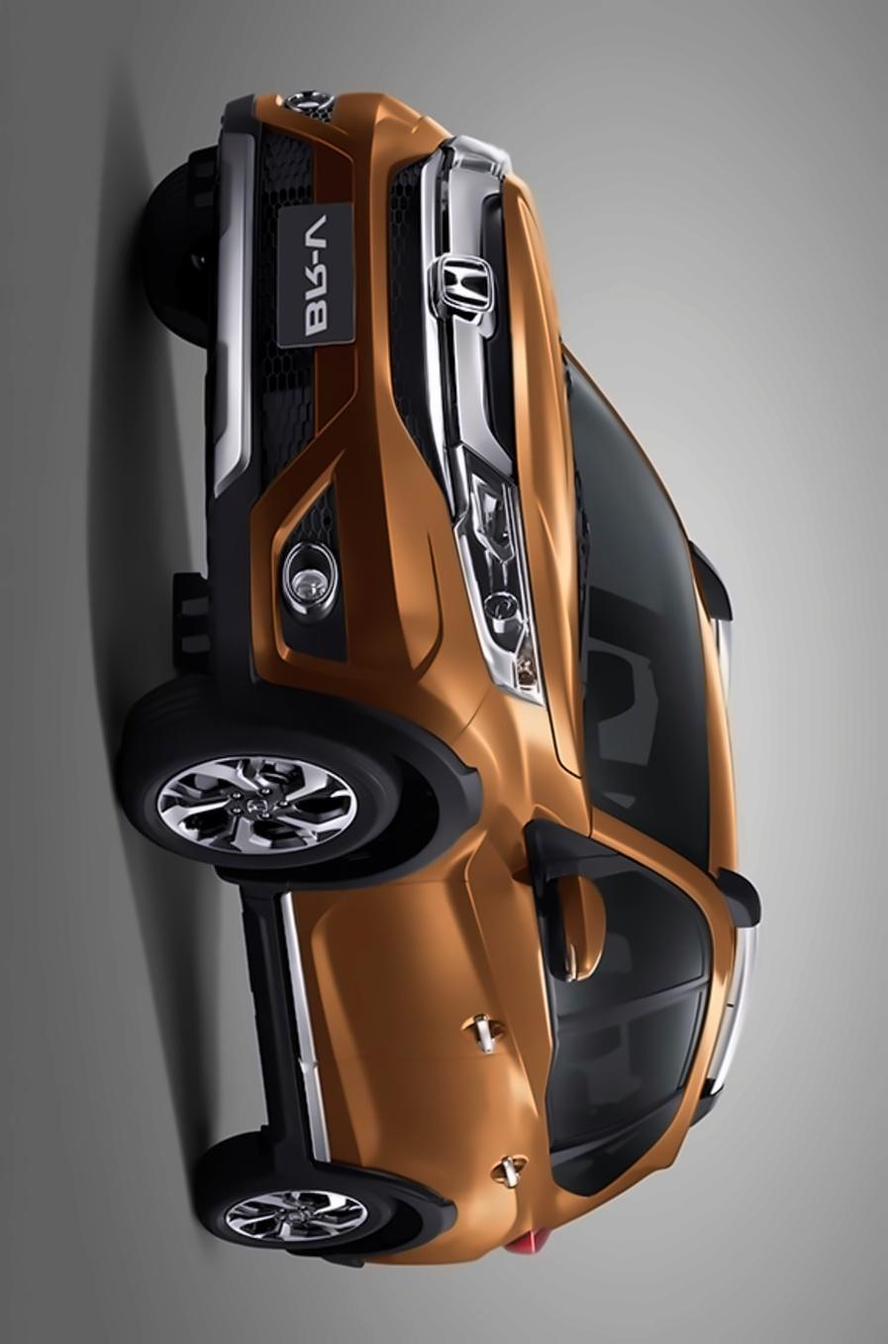Car hood: (493, 166, 597, 788)
Fender - -F-L-: (238, 687, 606, 899)
Fender - -R-L-: (332, 1154, 559, 1249)
Front bumper: (196, 75, 474, 730)
Headlight - -L-: (437, 429, 555, 712)
Headlight - -R-: (433, 119, 525, 210)
Passenger-s door - -F-L-: (272, 867, 732, 1053)
Passenger-s door - -R-L-: (287, 1000, 726, 1204)
Rear bumper: (295, 1205, 485, 1287)
Rear light - -L-: (500, 1203, 559, 1269)
Side bumper - -L-: (234, 864, 343, 1175)
Side mirror - -L-: (527, 862, 624, 988)
